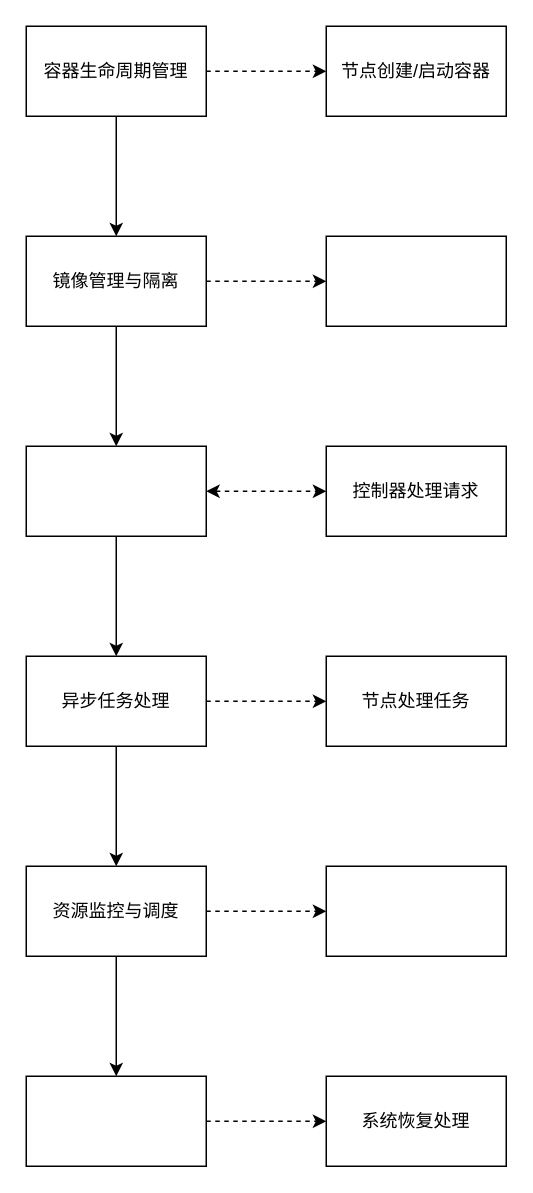
The diagram is 533 pixels wide and 1193 high, and some of its shapes have lost their labels. Here are the shapes that lost their labels. From the top down, the box of each, then its label:
(325, 235, 506, 326): Docker容器隔离
(25, 445, 206, 536): HTTP API通信
(325, 865, 506, 956): 控制器调度任务
(25, 1075, 206, 1166): 错误处理与恢复
